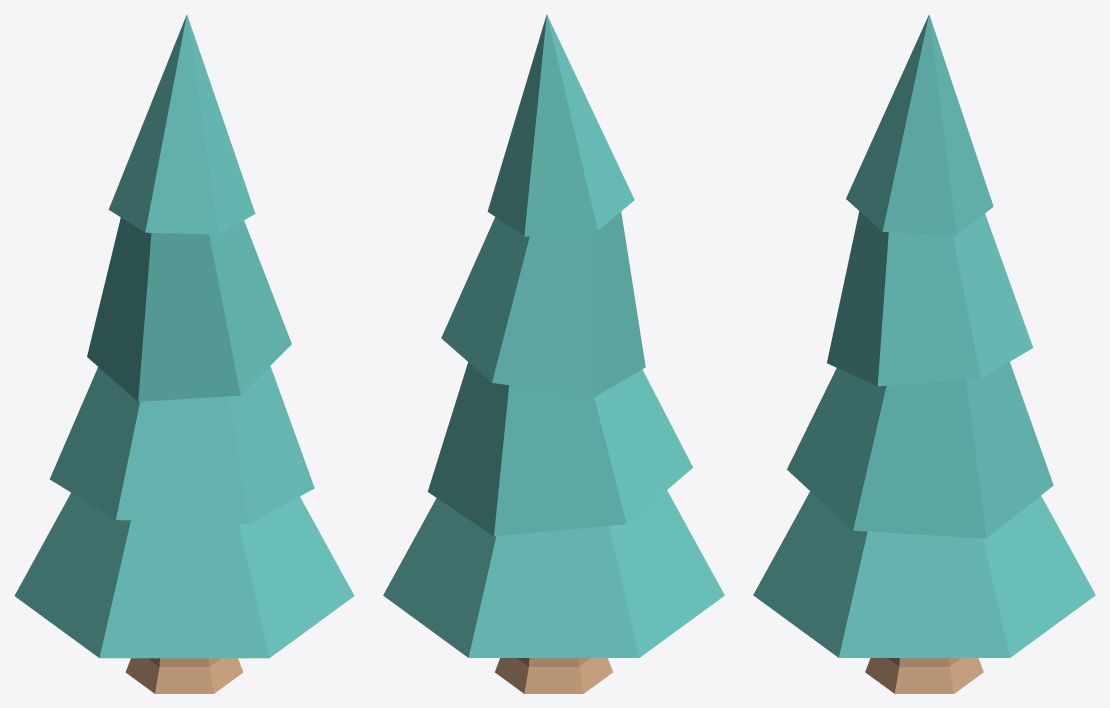
Rendered from treePine.glb.
The picture shows the model from 3 angles, left to right: view 1: azimuth 30°, elevation 25°; view 2: azimuth 150°, elevation 25°; view 3: azimuth 270°, elevation 25°; orthographic projection.
Visible parts, largest first — view 1: Mesh treePine_1, Mesh_treePine; view 2: Mesh treePine_1, Mesh_treePine; view 3: Mesh treePine_1, Mesh_treePine.
Boxes of the visible parts, x1,y1,x2,y2 form: Mesh treePine_1: [14, 14, 354, 658]; Mesh_treePine: [125, 658, 243, 693]; Mesh treePine_1: [383, 14, 724, 657]; Mesh_treePine: [495, 658, 612, 693]; Mesh treePine_1: [753, 14, 1095, 657]; Mesh_treePine: [865, 658, 983, 693].
Size of what is drawn, in the model's own units: 0.651 by 1.6 by 0.7517.
